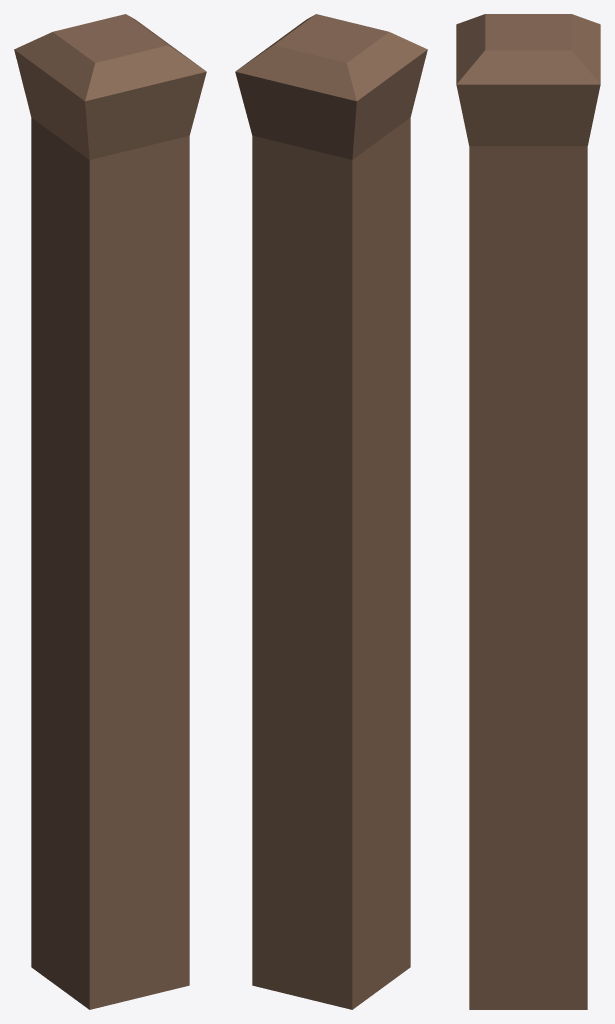
File: fence_wood_post.fbx
3 renders of one model, left to right at view 1: azimuth 30°, elevation 25°; view 2: azimuth 150°, elevation 25°; view 3: azimuth 270°, elevation 25°, orthographic.
Visible parts, largest first — view 1: fencepost; view 2: fencepost; view 3: fencepost.
Part boxes in pixels (x1,y1,x2,y2): fencepost: [14, 14, 206, 1009]; fencepost: [235, 14, 427, 1009]; fencepost: [456, 14, 600, 1009].
Size of the model in its own units: 0.3351 by 2.47 by 0.3383.
